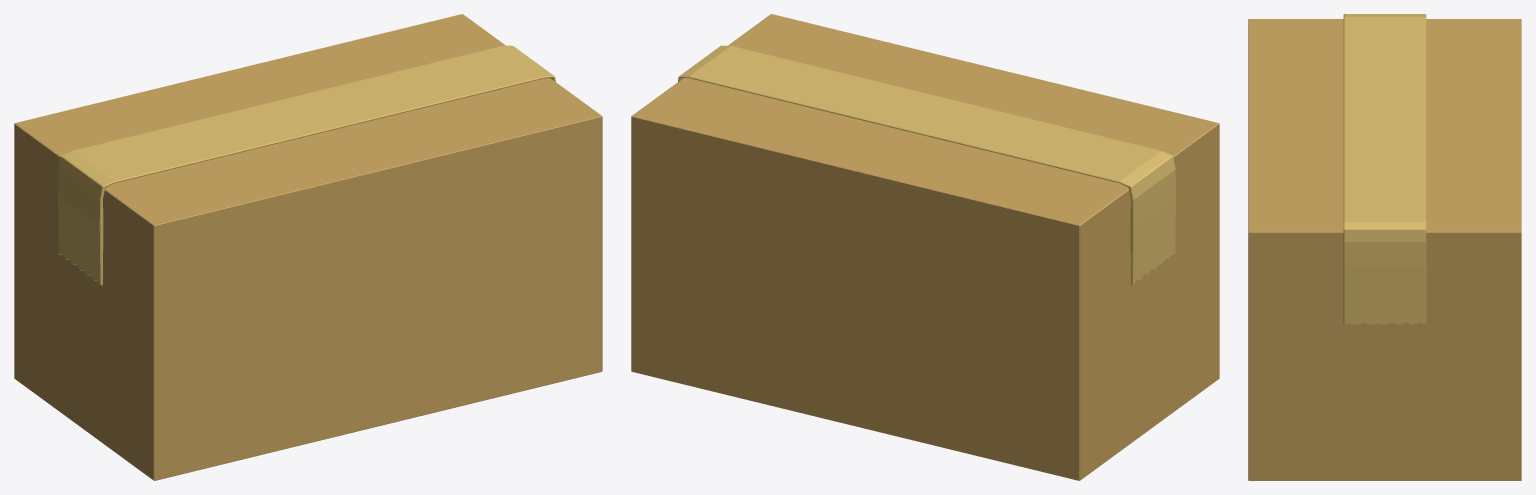
The model's file is cardboard.fbx.
3 renders of one model, left to right at view 1: azimuth 30°, elevation 25°; view 2: azimuth 150°, elevation 25°; view 3: azimuth 270°, elevation 25°, orthographic. The views are drawn at different scales.
Parts seen in each view (by area): view 1: cardboard; view 2: cardboard; view 3: cardboard.
Boxes of the visible parts, <box> form: cardboard: <box>14,14,602,480</box>; cardboard: <box>631,14,1219,480</box>; cardboard: <box>1248,14,1521,480</box>.
Bounding box in the file's own units: 189 × 103 × 100.
